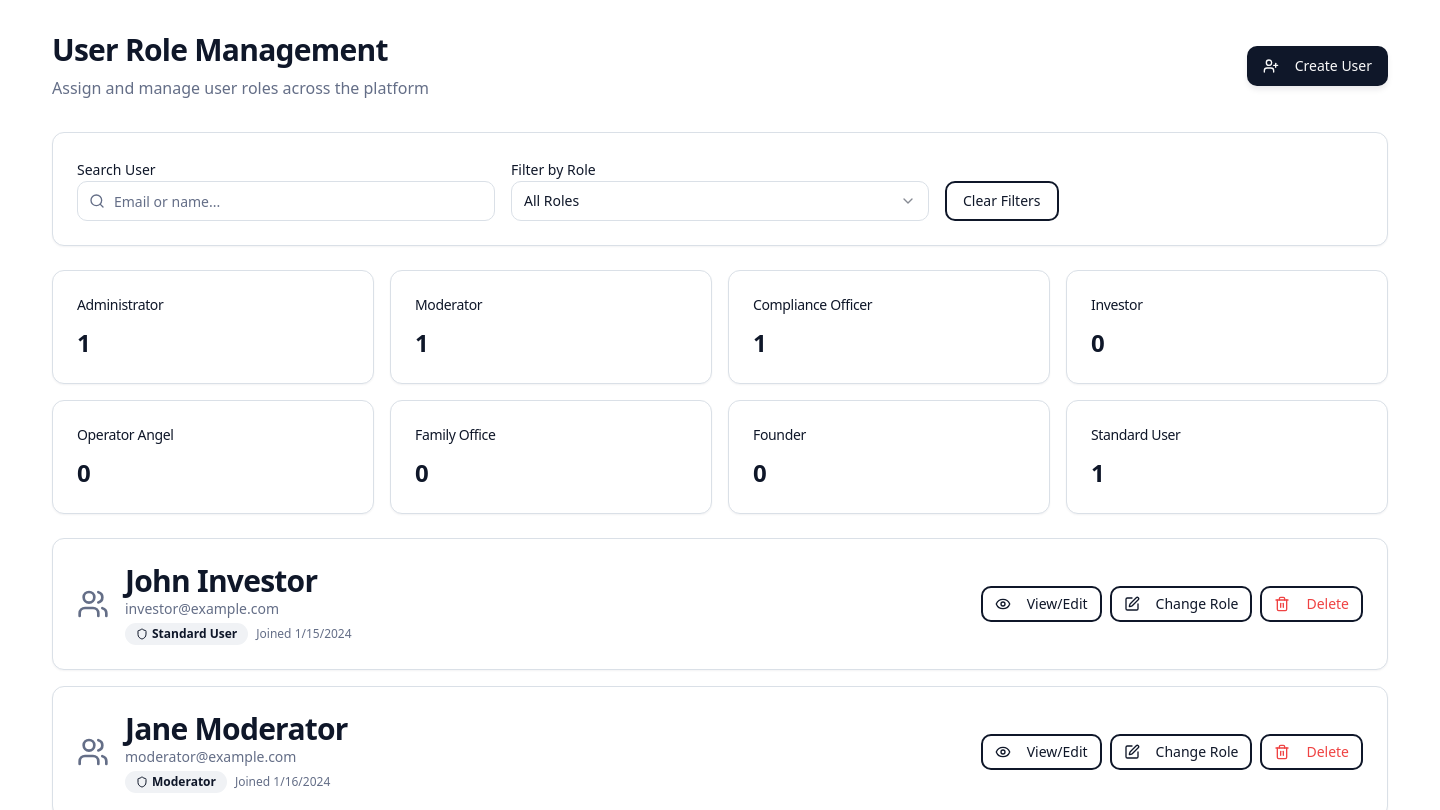
it: US-ADMIN-001: User Role Management › Search Functionality › should filter users by name search
Expected: the heading "John Investor" is shown, [125,560,317,601]
In the field with placeholder "Email or name...": (286, 201) [77,181,495,221], type "John"
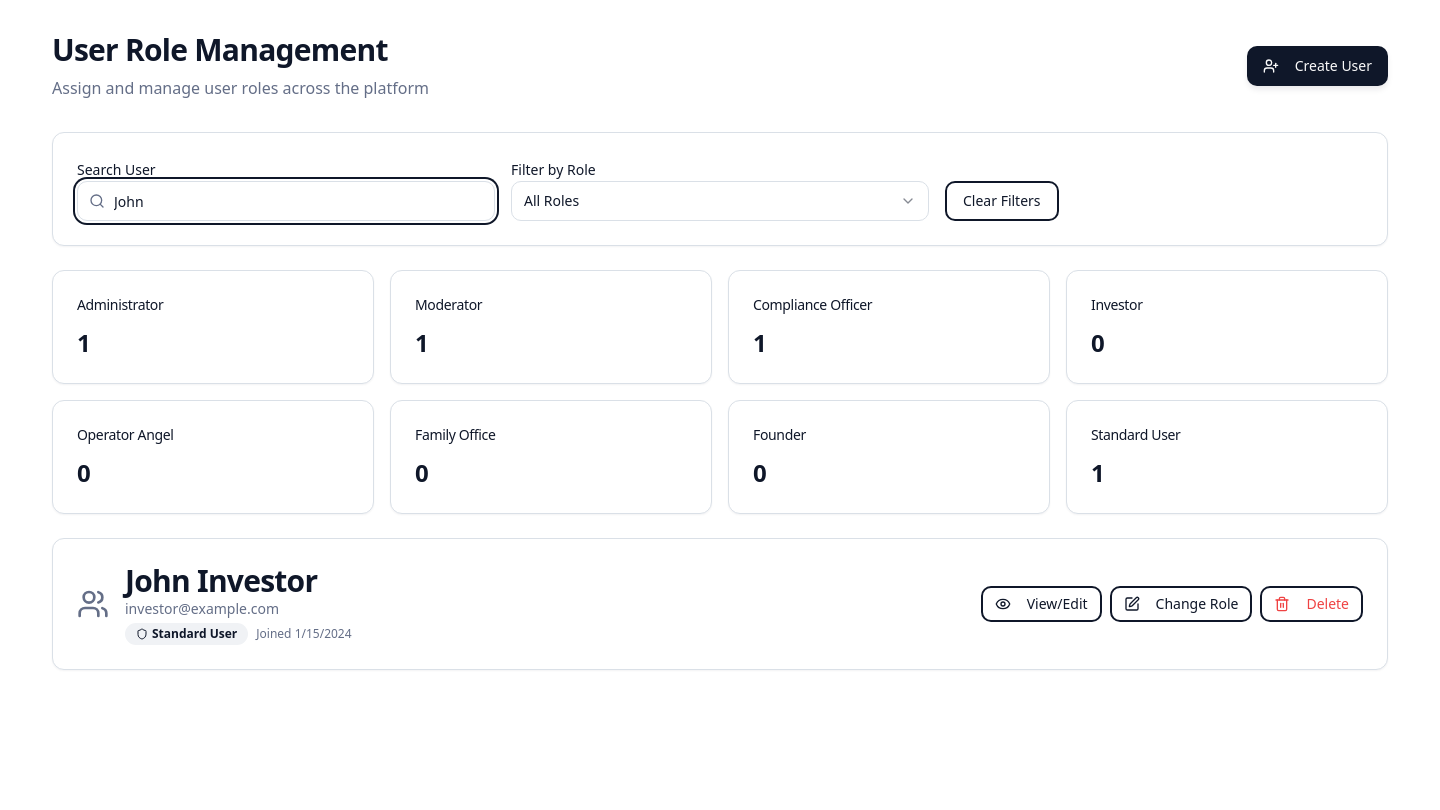
Expected: the heading "John Investor" is shown, [125,560,317,601]
Expected: the heading "Jane Moderator" is gone
